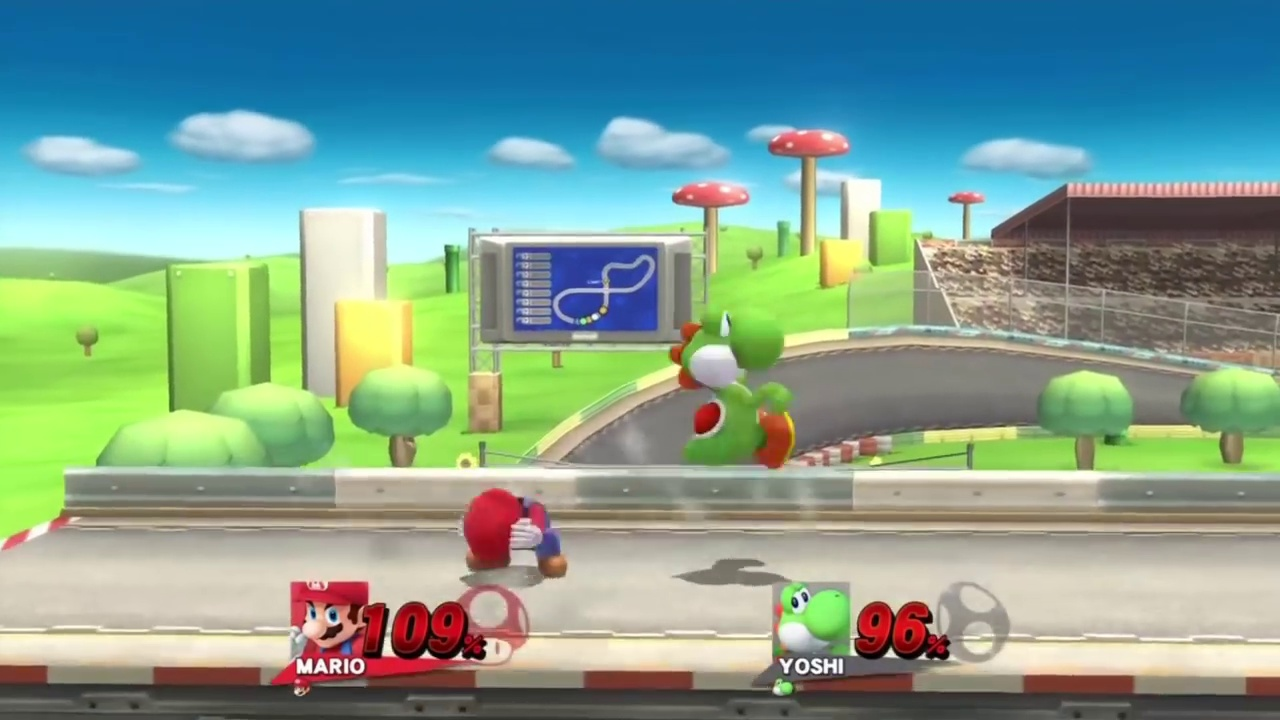Mario: (461, 489, 566, 581)
